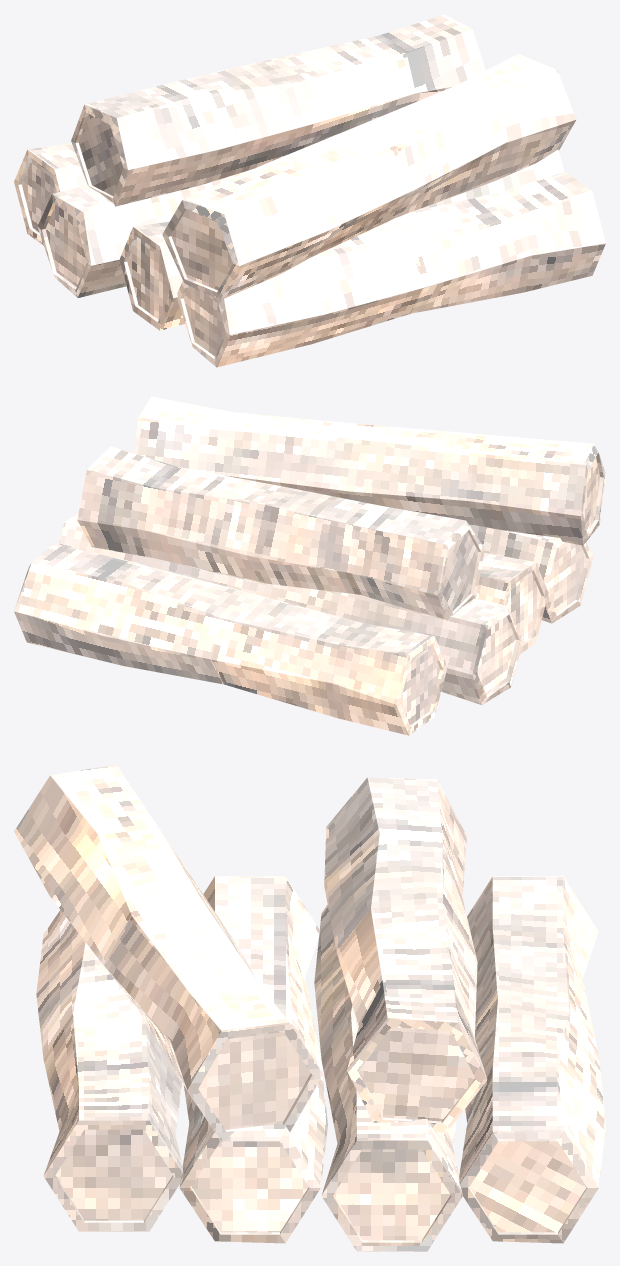
Rendered from Logs_Var1.glb.
3 renders of one model, top to bottom at view 1: azimuth 30°, elevation 25°; view 2: azimuth 150°, elevation 25°; view 3: azimuth 270°, elevation 25°, orthographic. The views are drawn at different scales.
Visible parts, largest first — view 1: Tree_Logs_Variant_1; view 2: Tree_Logs_Variant_1; view 3: Tree_Logs_Variant_1.
Part boxes in pixels (<box>): Tree_Logs_Variant_1: <box>14,14,605,367</box>; Tree_Logs_Variant_1: <box>14,396,605,735</box>; Tree_Logs_Variant_1: <box>14,764,605,1251</box>.
Size of the model in its own units: 2.8 by 1.01 by 2.48.
